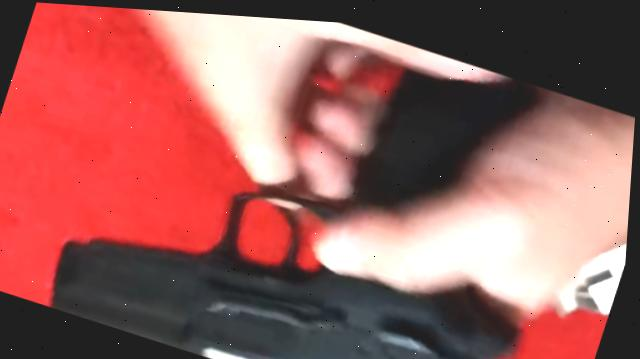pistol: (43, 3, 588, 359)
